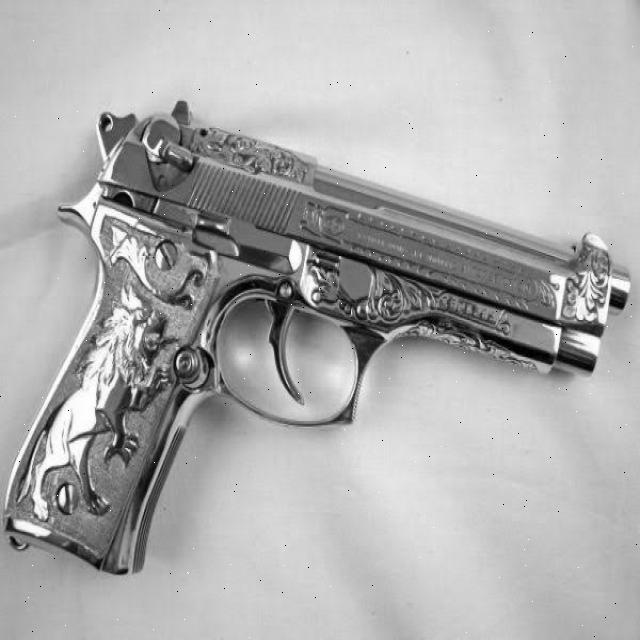gun: (0, 90, 632, 585)
